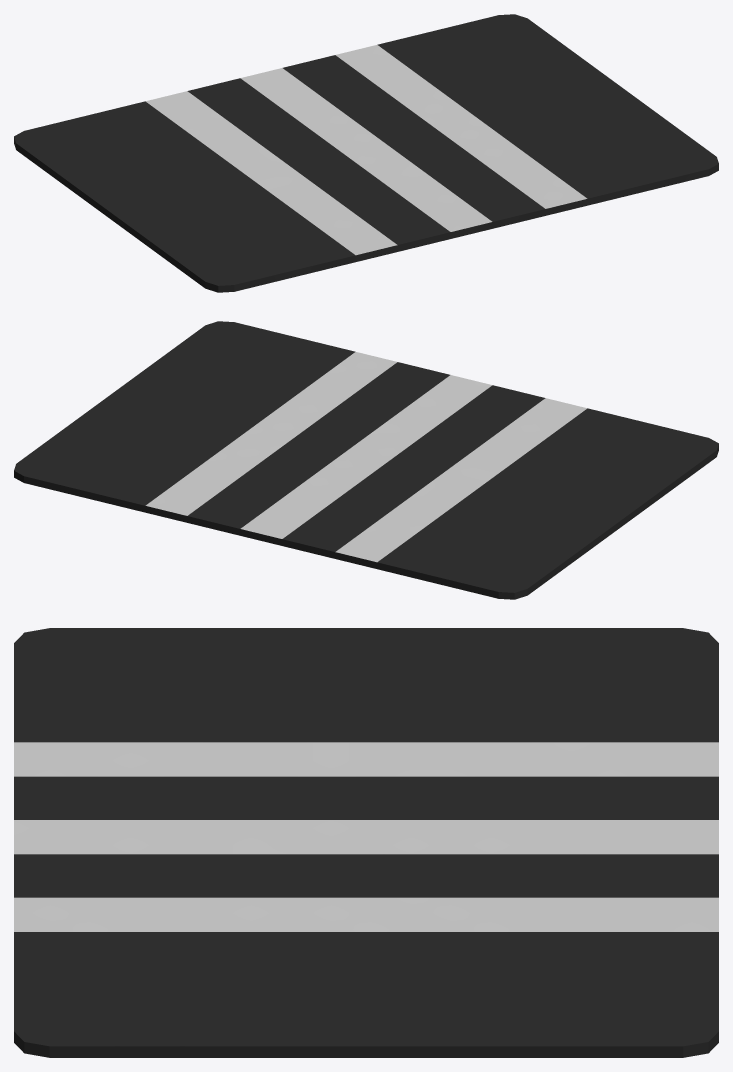
Rendered from Carpet_02_03.fbx.
3 views of the same model, one above another, from view 1: azimuth 30°, elevation 25°; view 2: azimuth 150°, elevation 25°; view 3: azimuth 270°, elevation 25° (orthographic). The views are drawn at different scales.
Visible parts, largest first — view 1: Carpet_02_03; view 2: Carpet_02_03; view 3: Carpet_02_03.
Part boxes in pixels (x1=…): Carpet_02_03: x1=14, y1=14, x2=718, y2=292; Carpet_02_03: x1=14, y1=321, x2=718, y2=599; Carpet_02_03: x1=14, y1=628, x2=718, y2=1057.
Size of the model in its own units: 1.56 by 0.0201 by 1.11.
